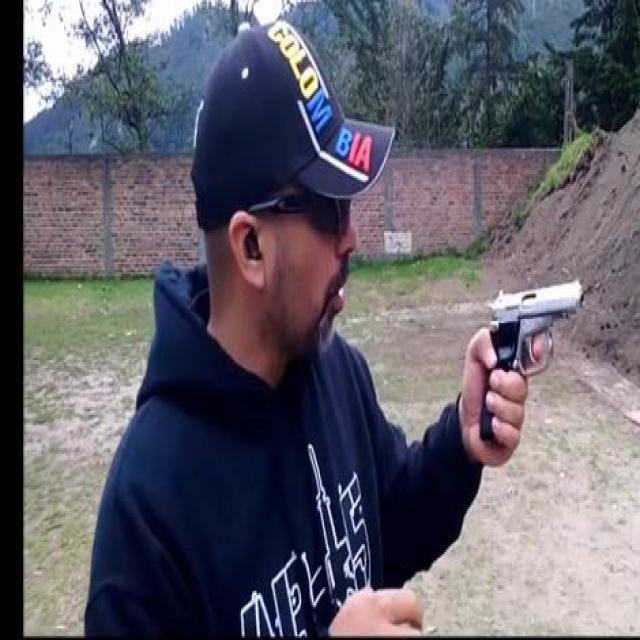Gun: (478, 278, 586, 444)
